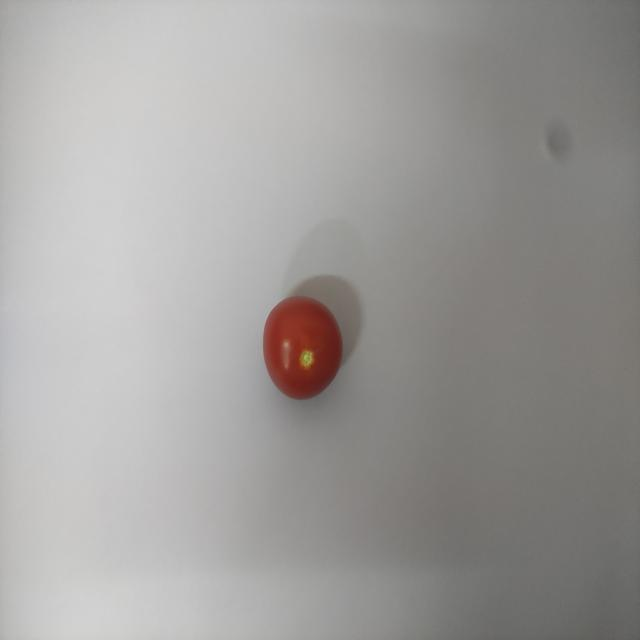kirmizi: (250, 286, 360, 406)
